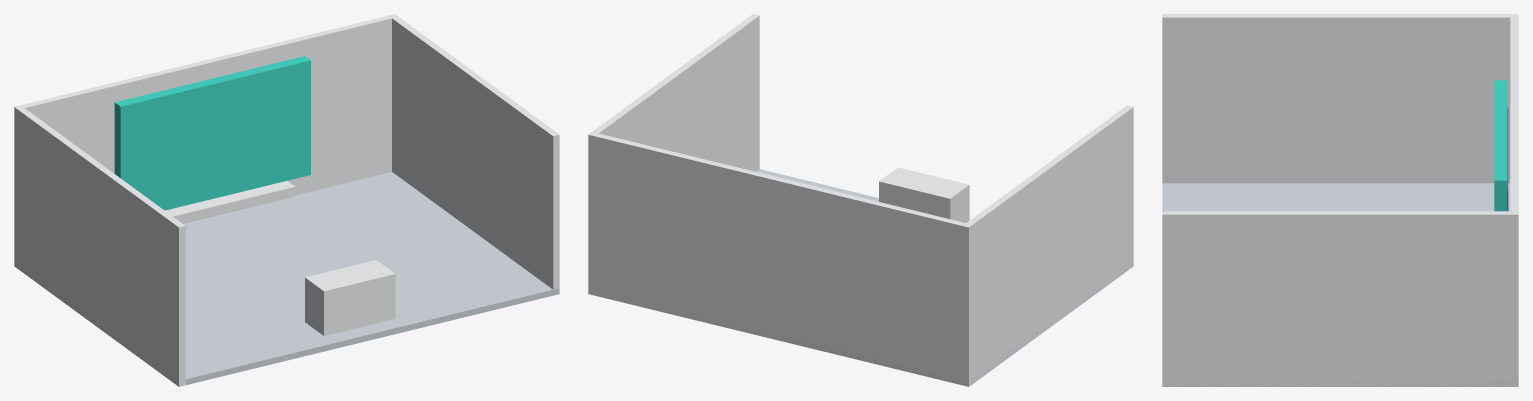
3 views of the same model, side by side, from view 1: azimuth 30°, elevation 25°; view 2: azimuth 150°, elevation 25°; view 3: azimuth 270°, elevation 25° (orthographic). The views are drawn at different scales.
Parts seen in each view (by area): view 1: Exhibition Booth Concept; view 2: Exhibition Booth Concept; view 3: Exhibition Booth Concept.
Boxes of the visible parts, left/top/right/bottom form: Exhibition Booth Concept: left=14, top=14, right=559, bottom=386; Exhibition Booth Concept: left=588, top=14, right=1133, bottom=386; Exhibition Booth Concept: left=1162, top=14, right=1518, bottom=386.
Bounding box in the file's own units: 8 × 3.2 × 6.
